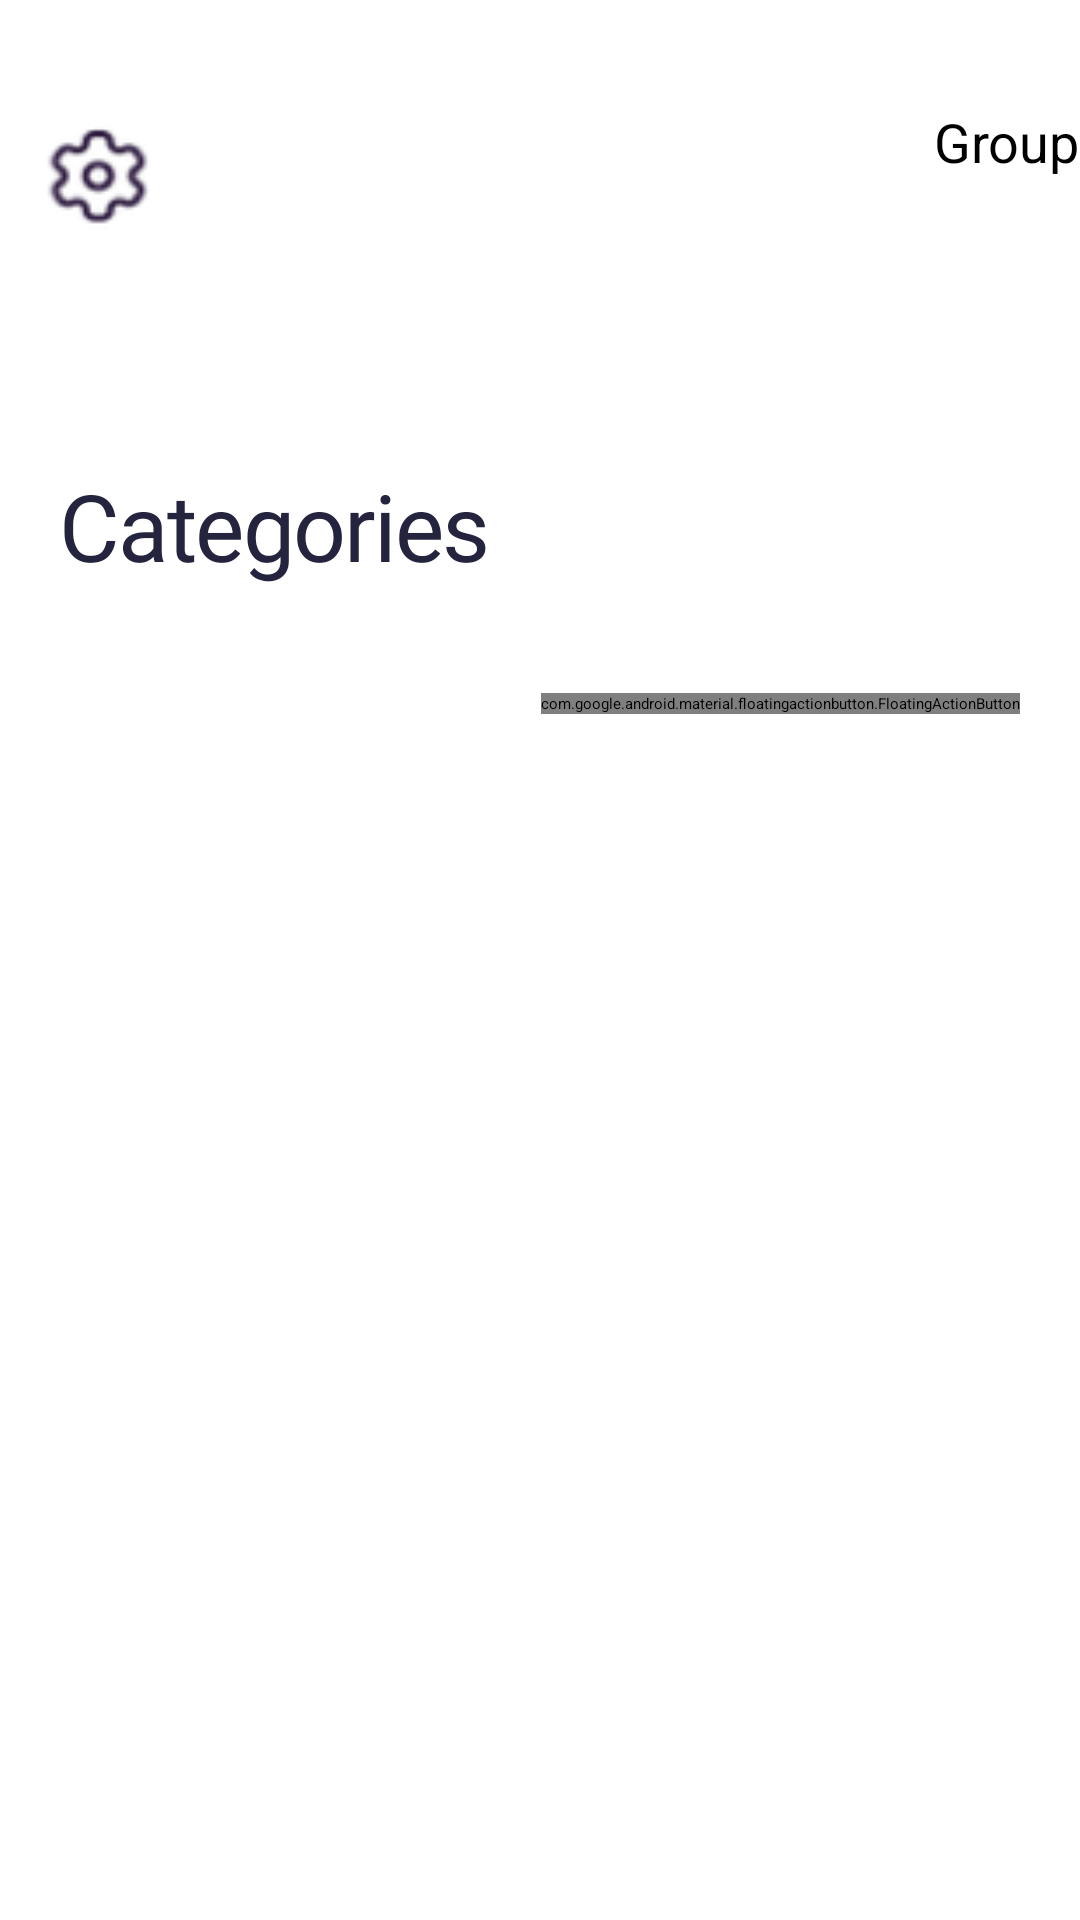

Screen size 1080 × 1920. Icon name, then its center in pixels as point (x, y):
setting: point (98, 176)
